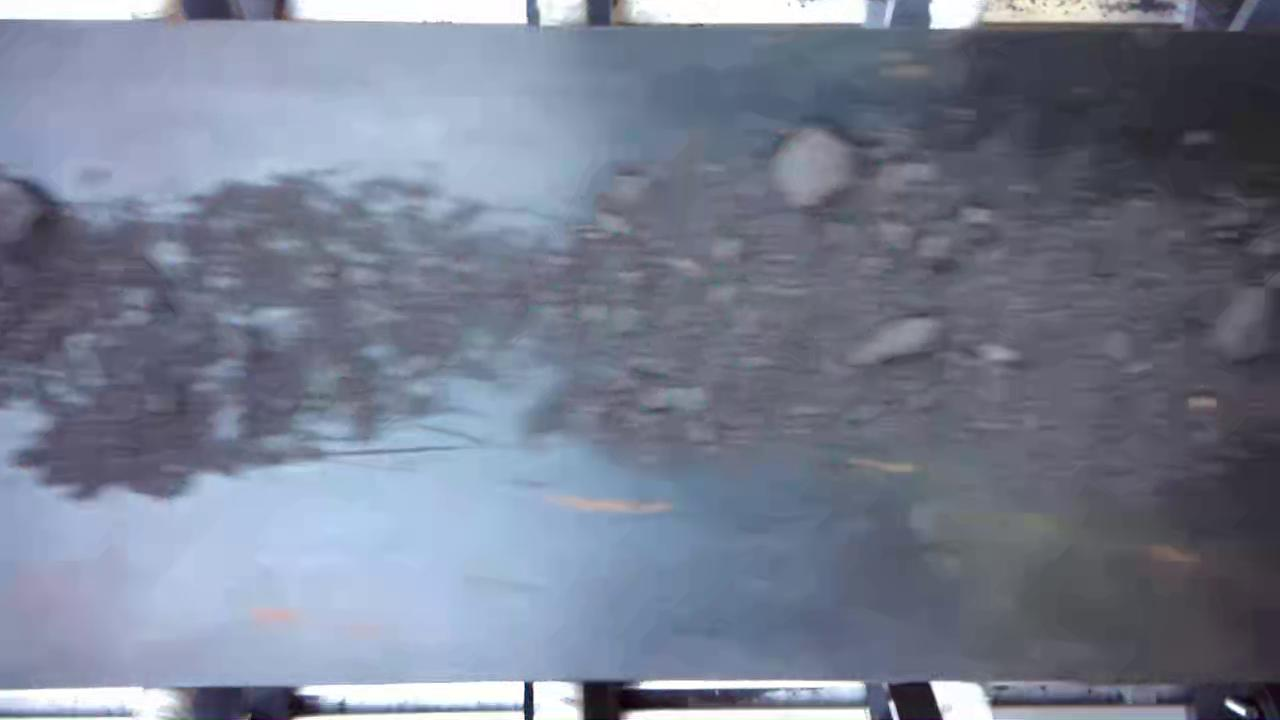conveyor: (0, 36, 1280, 672)
